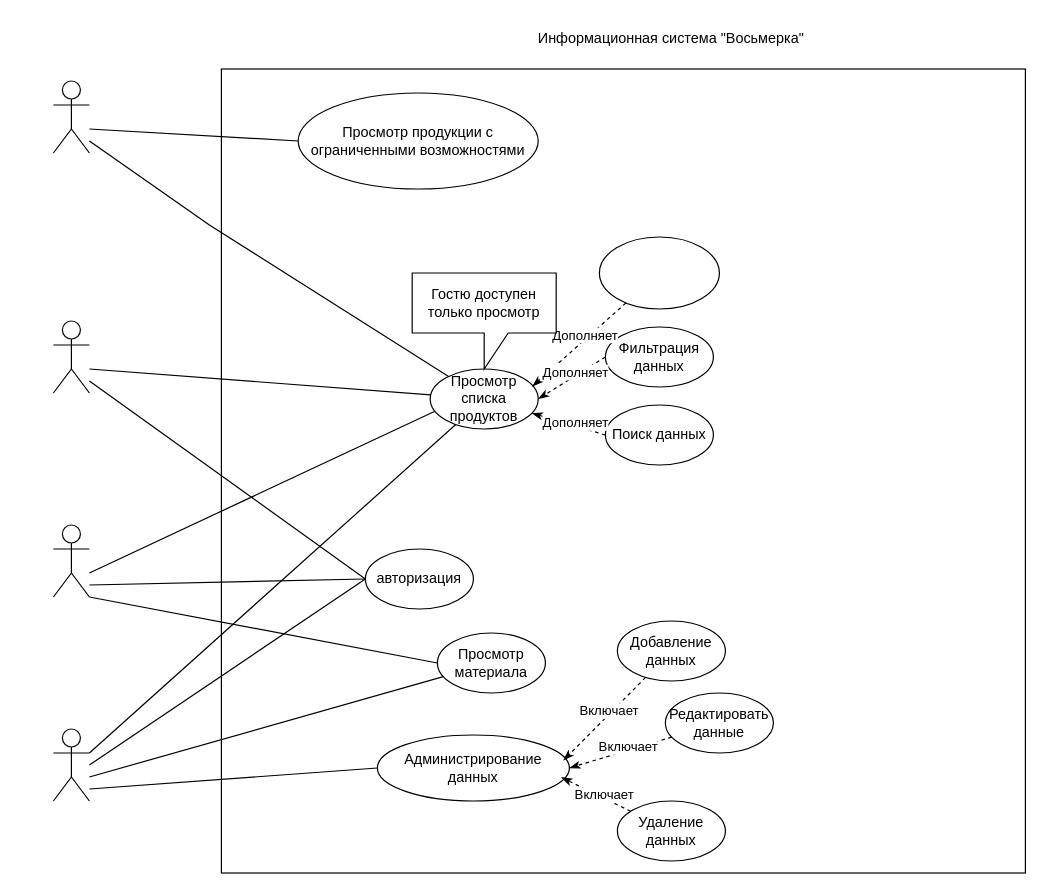
Some shapes in this 1046 by 894 pixel diagram are drawn without their labels. Here are the shapes that lost their labels. From the top down, the centre of each, then its label:
At pixel 70 116: "гость".
At pixel 658 272: "Сортировка данных".
At pixel 70 356: "агент".
At pixel 70 560: "менеджер".
At pixel 70 764: "администратор".
